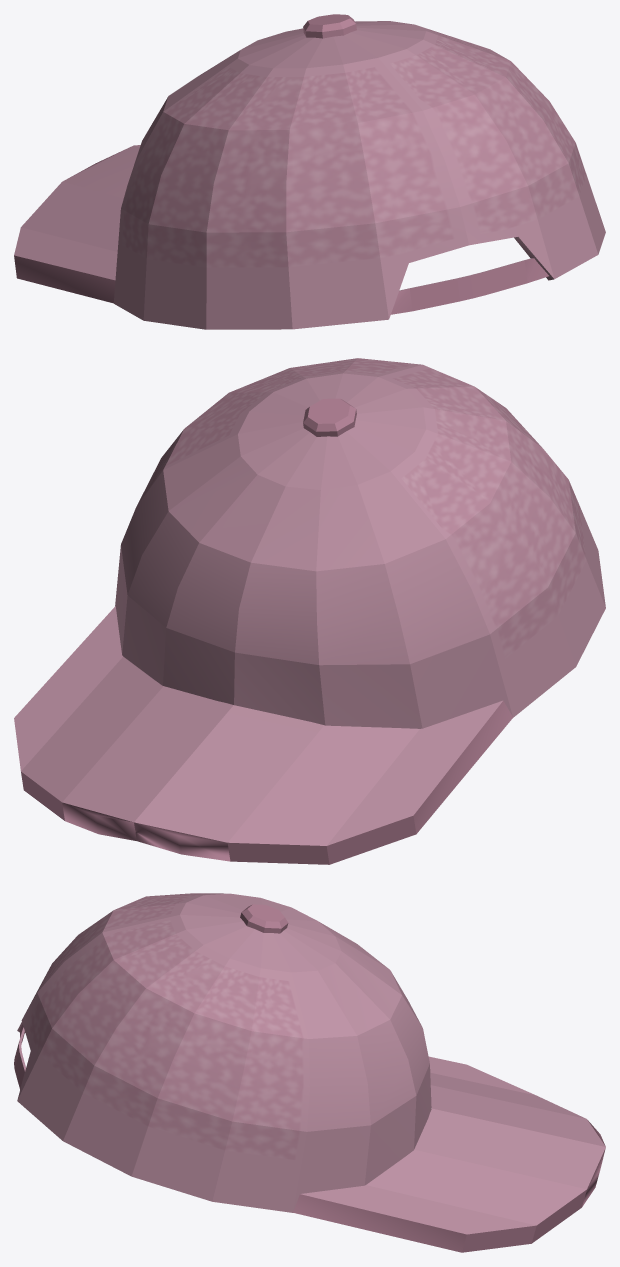
File: hat_backwards_trucker_pink.glb
The picture shows the model from 3 angles, top to bottom: view 1: azimuth 30°, elevation 25°; view 2: azimuth 150°, elevation 25°; view 3: azimuth 270°, elevation 25°; orthographic projection. The views are drawn at different scales.
Visible parts, largest first — view 1: Hatmodel; view 2: Hatmodel; view 3: Hatmodel.
Part boxes in pixels (box(x1,y1,x2,y2)): Hatmodel: box(14, 14, 605, 329); Hatmodel: box(14, 358, 605, 864); Hatmodel: box(14, 893, 605, 1252).
Bounding box in the file's own units: 5.21 × 3.56 × 7.08.
2 materials, 2 textured.
